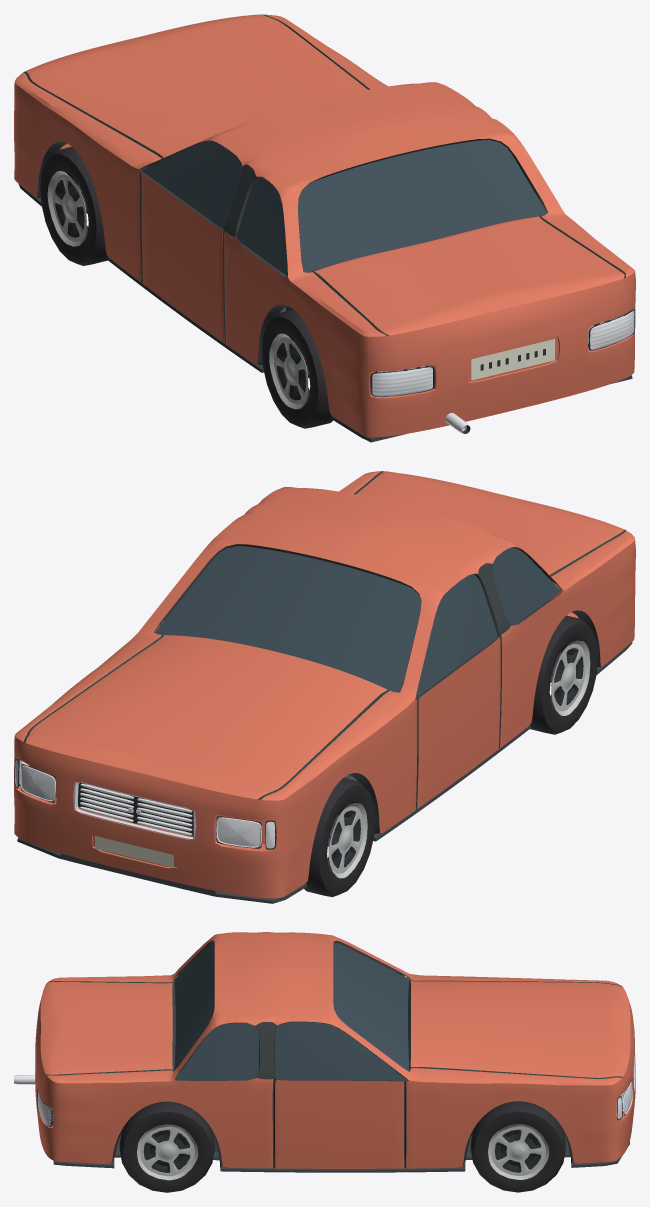
The model's file is forge_closed_defaults_lod1.fbx.
3 views of the same model, one above another, from view 1: azimuth 30°, elevation 25°; view 2: azimuth 150°, elevation 25°; view 3: azimuth 270°, elevation 25° (orthographic). The views are drawn at different scales.
Parts seen in each view (by area): view 1: Body, Wheel_RL_Mesh, Wheel_FL_Mesh; view 2: Body, Wheel_FL_Mesh, Wheel_RL_Mesh; view 3: Body, Wheel_FR_Mesh, Wheel_RR_Mesh.
Boxes of the visible parts, x1,y1,x2,y2 form: Body: (14,14,635,442); Wheel_RL_Mesh: (261,309,332,428); Wheel_FL_Mesh: (40,147,107,265); Body: (14,471,635,903); Wheel_FL_Mesh: (304,778,375,897); Wheel_RL_Mesh: (530,615,598,734); Body: (14,932,635,1172); Wheel_FR_Mesh: (470,1101,565,1192); Wheel_RR_Mesh: (119,1101,214,1192).
Bounding box in the file's own units: 153 × 114 × 369.
